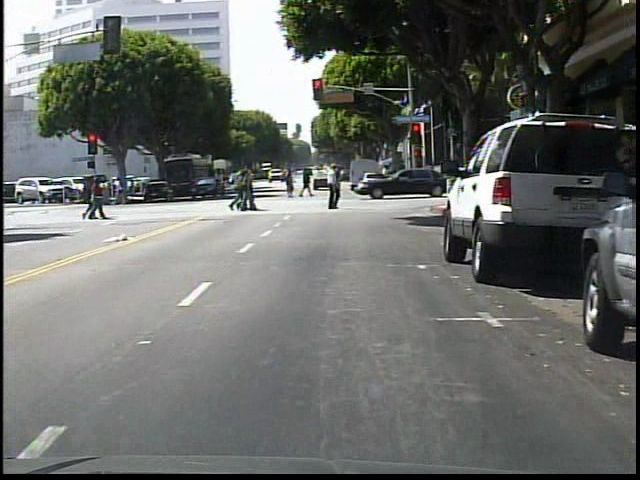person: (321, 160, 345, 213), (328, 167, 346, 196)
